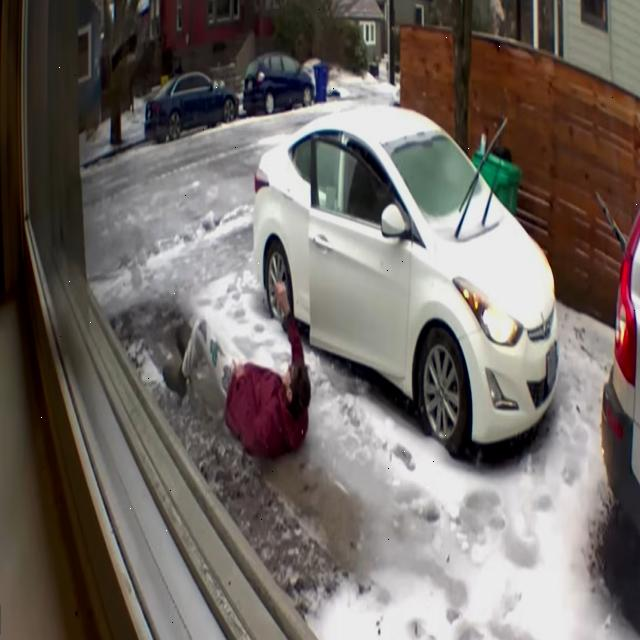fallen: (164, 283, 311, 458)
